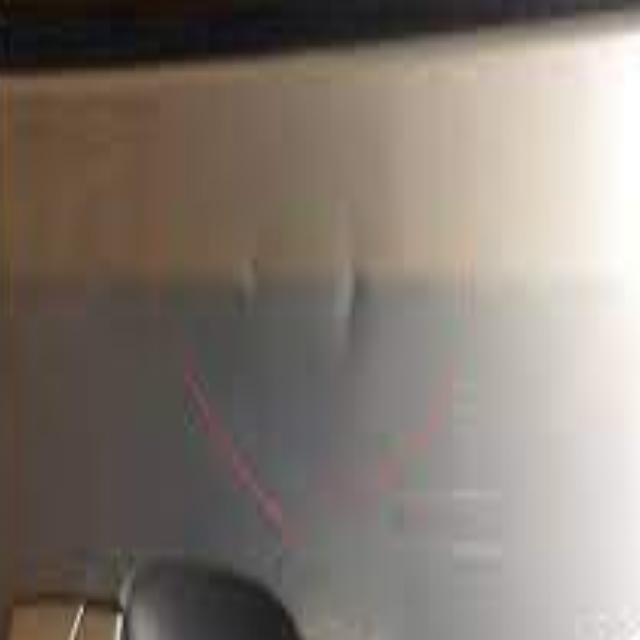dents: (324, 221, 399, 407), (236, 230, 282, 336)
